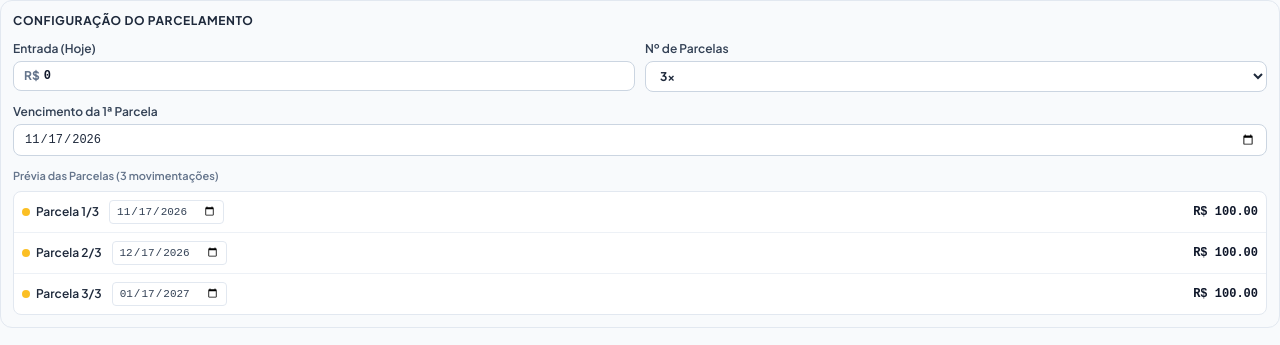
Test: Sprint FE-3: Checkout Financeiro, Rateio de Descontos e Retorno Inteligente › AC-066: Validação Visual de Entrada e Formatação Monetária Fluida @spec:AC-066
// Digita entrada maior que o total (R$ 350.00)
Replace the text in the number field named "Valor de entrada" with "350.00" at (334, 76), box [44, 68, 624, 84]
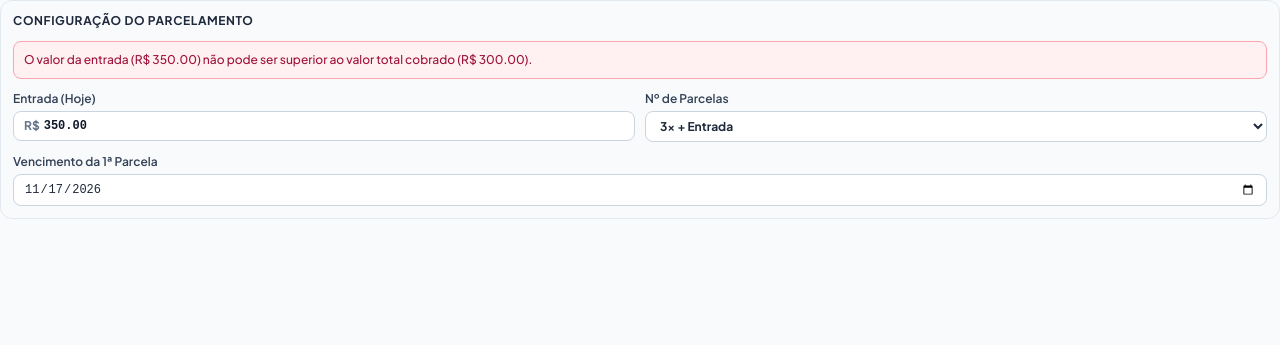
expect the element with test id "entry-invalid-error" is shown: met, box [13, 41, 1267, 79]
expect the text "não pode ser superior ao valor total cobrado" is shown: met, box [197, 52, 479, 67]
